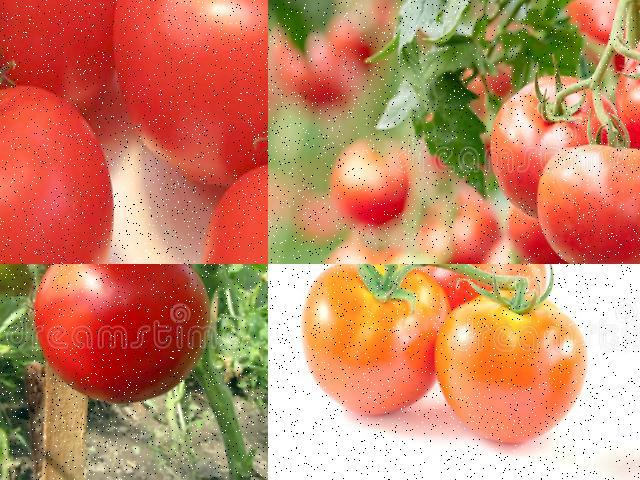tomato: (34, 264, 224, 414), (439, 291, 597, 456), (293, 264, 447, 423), (119, 0, 267, 161), (0, 80, 120, 263), (486, 70, 624, 221), (536, 135, 639, 263), (326, 130, 422, 232), (0, 0, 116, 73), (397, 264, 552, 315), (613, 18, 639, 184)
